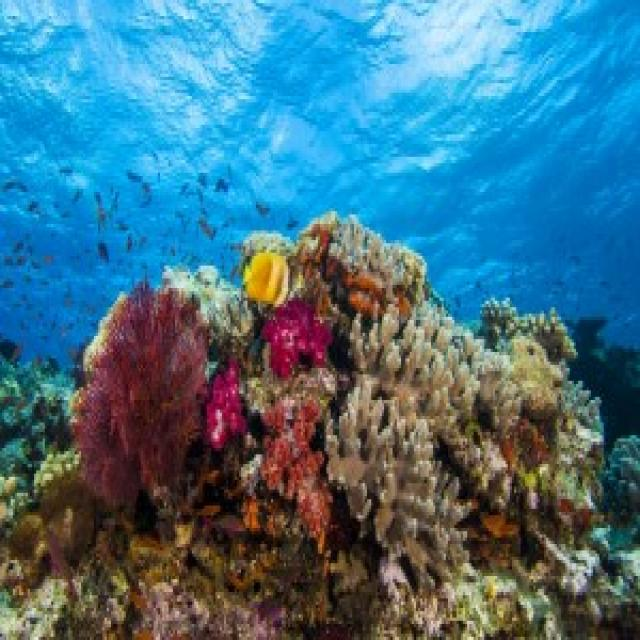Bleached: (327, 308, 475, 577), (293, 215, 423, 308), (455, 331, 560, 430), (167, 267, 238, 324), (248, 235, 278, 247)
Healthy: (74, 286, 206, 503), (263, 398, 323, 507), (263, 302, 332, 375), (206, 359, 246, 446), (308, 484, 330, 539)
